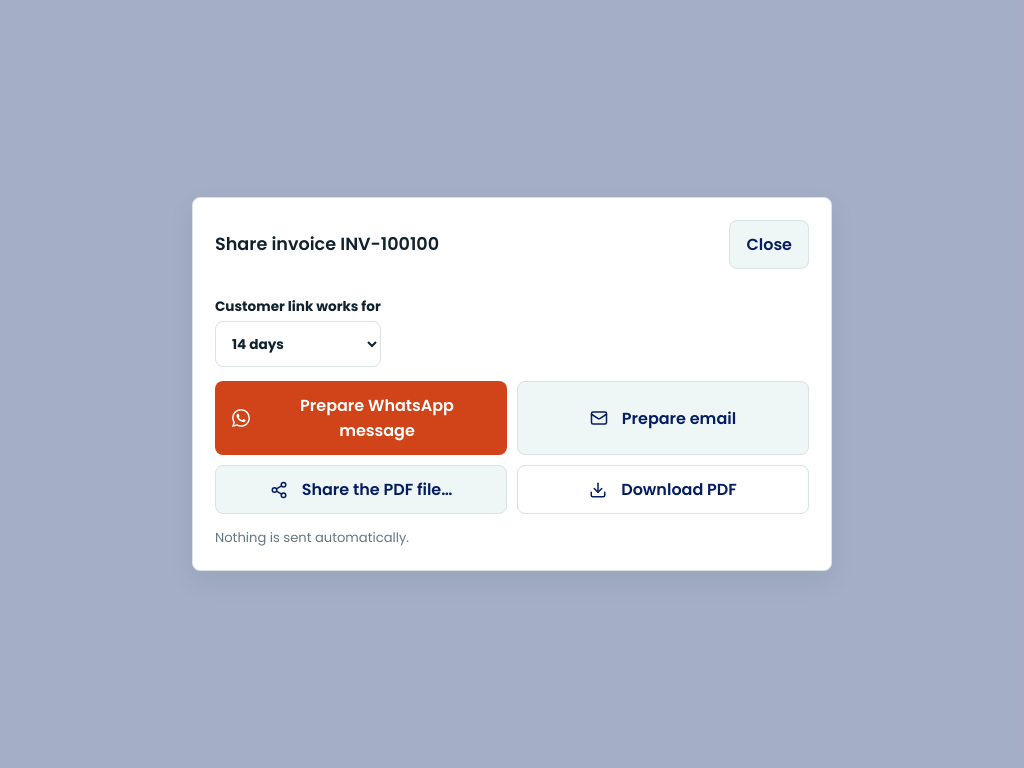
Test case: ShareDialog › hands the PDF to the device share sheet when supported
The image size is (1024, 768).
Click the button "Share the PDF file…".
click(361, 490)  # box [215,465,507,514]
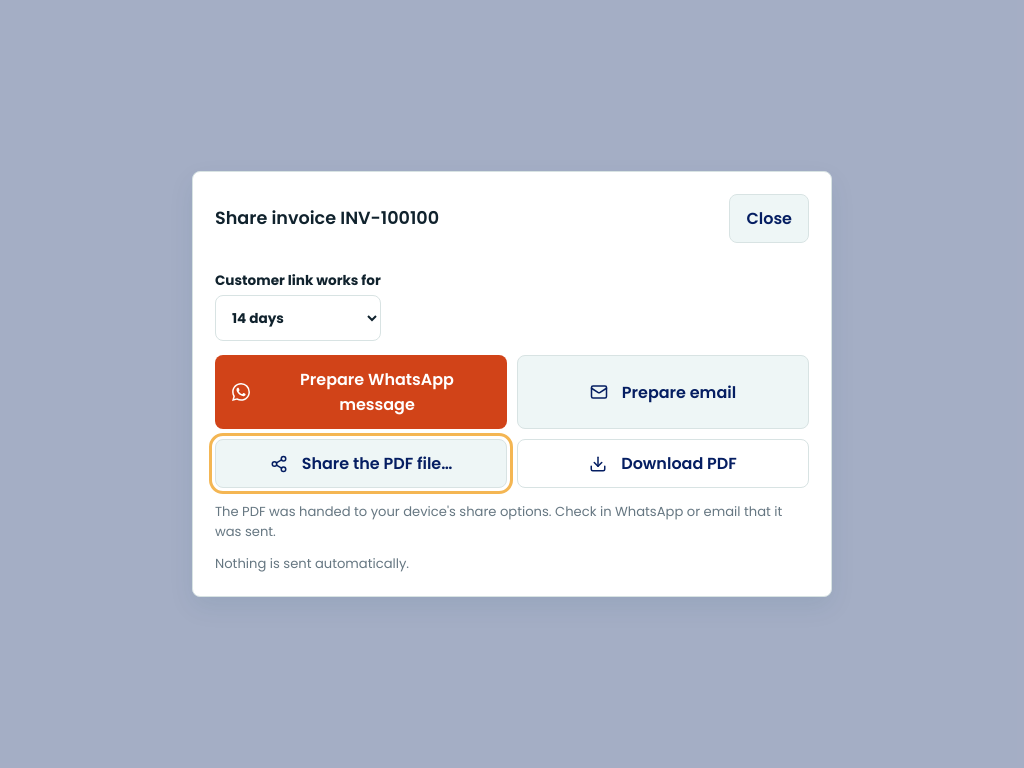
Check: the text "Check in WhatsApp or email that it was sent" is shown, box [215,502,782,541]
